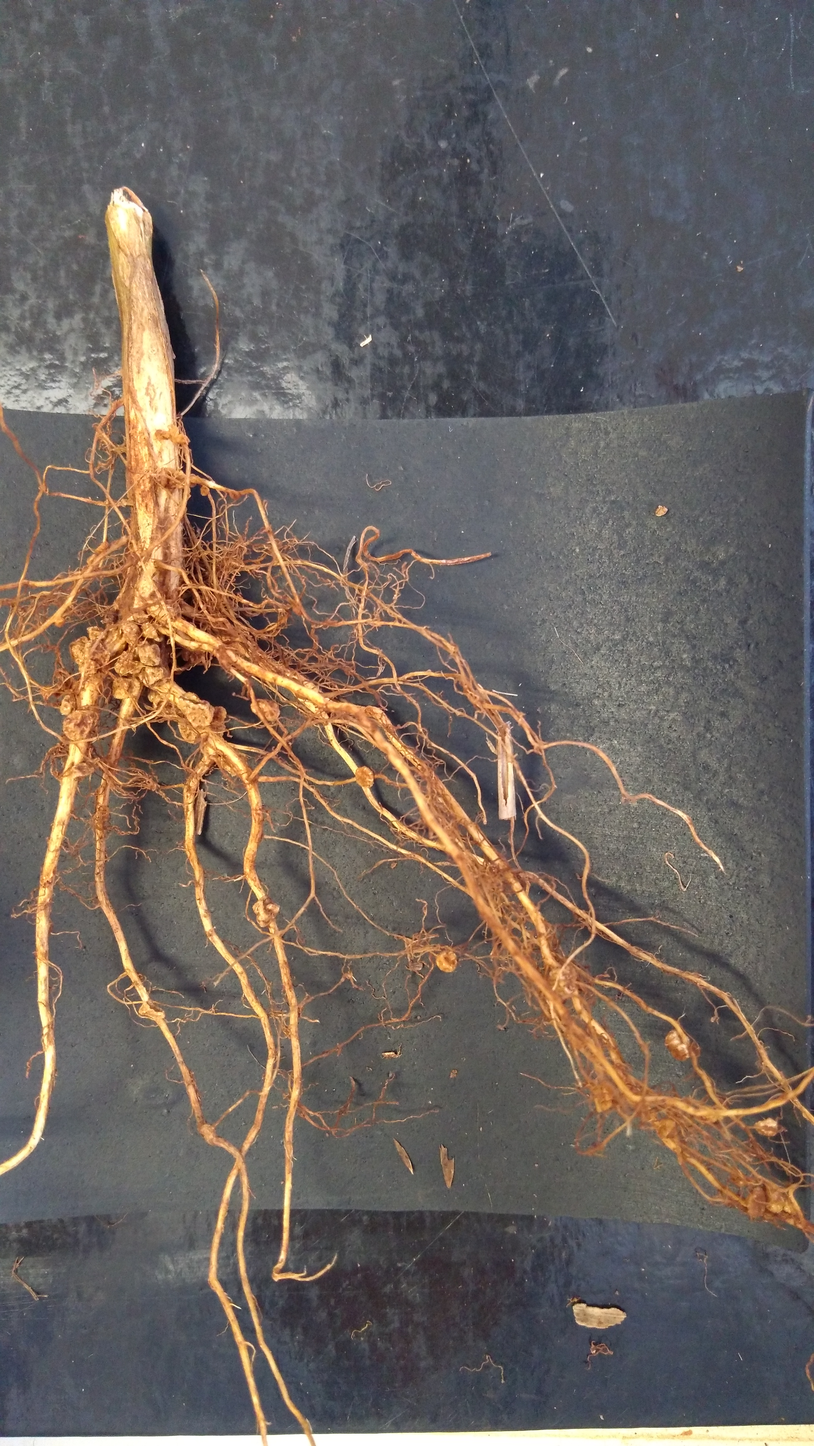nodule: (662, 1020, 702, 1060), (175, 691, 216, 728), (59, 707, 95, 742), (252, 893, 281, 928), (247, 696, 282, 724), (107, 676, 143, 703), (174, 715, 203, 748), (753, 1114, 783, 1144), (111, 648, 142, 677), (548, 967, 576, 998), (745, 1183, 767, 1222), (135, 643, 164, 670), (86, 539, 110, 570), (591, 1082, 615, 1113), (119, 622, 147, 648), (436, 942, 458, 973), (653, 1117, 679, 1141), (138, 999, 166, 1021), (168, 469, 198, 489), (57, 692, 79, 719), (210, 705, 230, 734), (68, 636, 88, 665), (147, 685, 173, 707), (354, 765, 376, 789), (138, 621, 161, 641), (157, 465, 172, 492), (754, 1254, 774, 1273), (78, 658, 99, 676), (85, 625, 107, 642), (680, 1262, 695, 1280), (130, 610, 150, 623), (174, 433, 192, 446), (227, 489, 241, 504), (290, 603, 304, 617), (199, 484, 212, 499), (54, 615, 66, 628)
